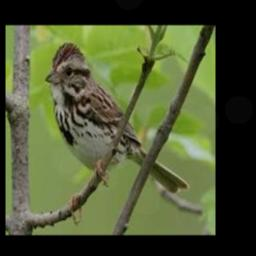Sparrow: (44, 43, 188, 223)
